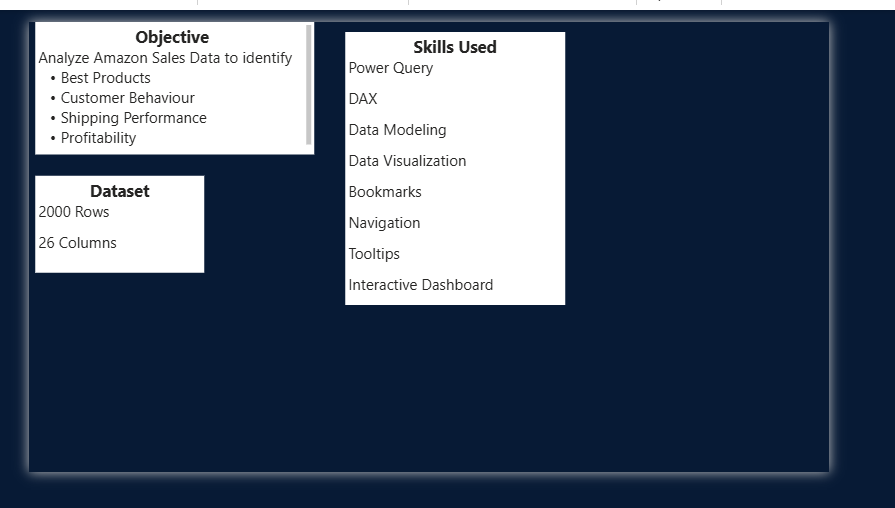

This screenshot's page, from the dashboard's own definition file:
{"tool":"powerbi","page":{"name":"About Project","canvas":[1280,720],"ordinal":6},"visuals":[{"type":"textbox","box":[10,0,446.7,211.7],"z":0},{"type":"textbox","box":[10,246.7,270,155],"z":1},{"type":"textbox","box":[506.7,16.7,351.7,436.7],"z":2}]}

Visuals, with their boxes in screenshot pixels (x1, y1, x2, y2), scaled from the page's 1280x720 canvas onto the 895x508 screenshot:
textbox: [left=7, top=0, right=319, bottom=149]
textbox: [left=7, top=174, right=196, bottom=283]
textbox: [left=354, top=12, right=600, bottom=320]
